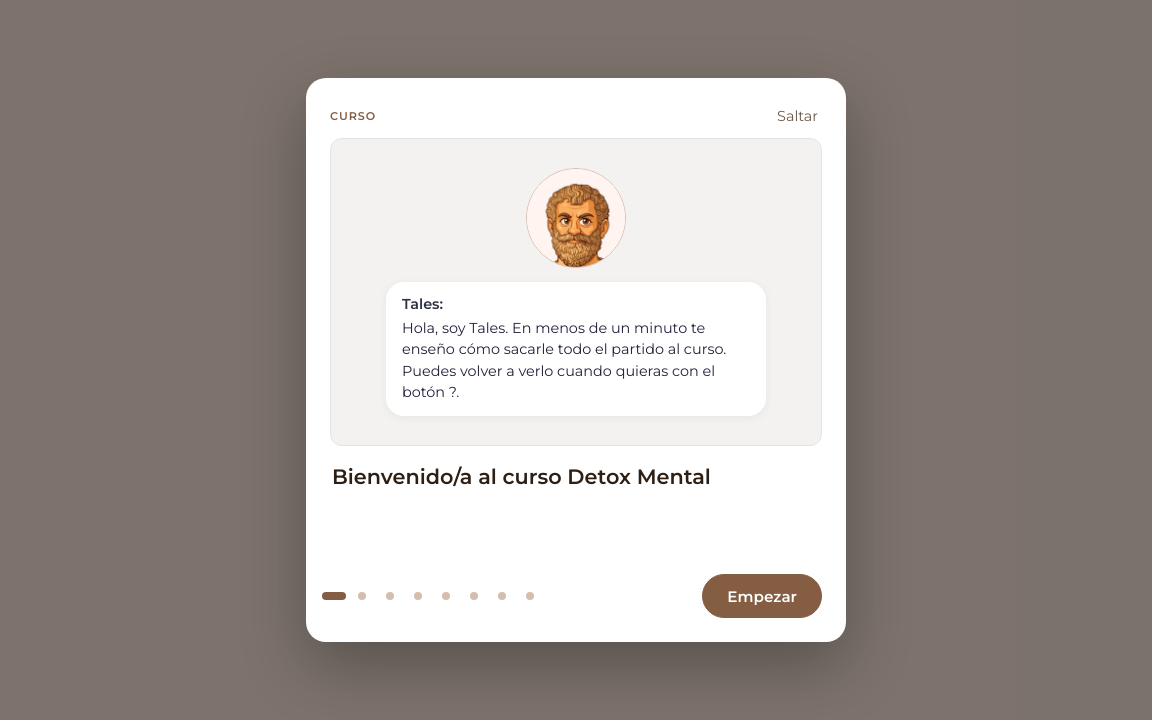
CourseOnboarding › the secret-character slide shows an illustration instead of a video
This screenshot has width=1152, height=720.
What coordinates should you click on to do the following:
click the button named "Ir a la diapositiva 6"
I would click on:
 (502, 596)
Its box is left=488, top=580, right=516, bottom=612.
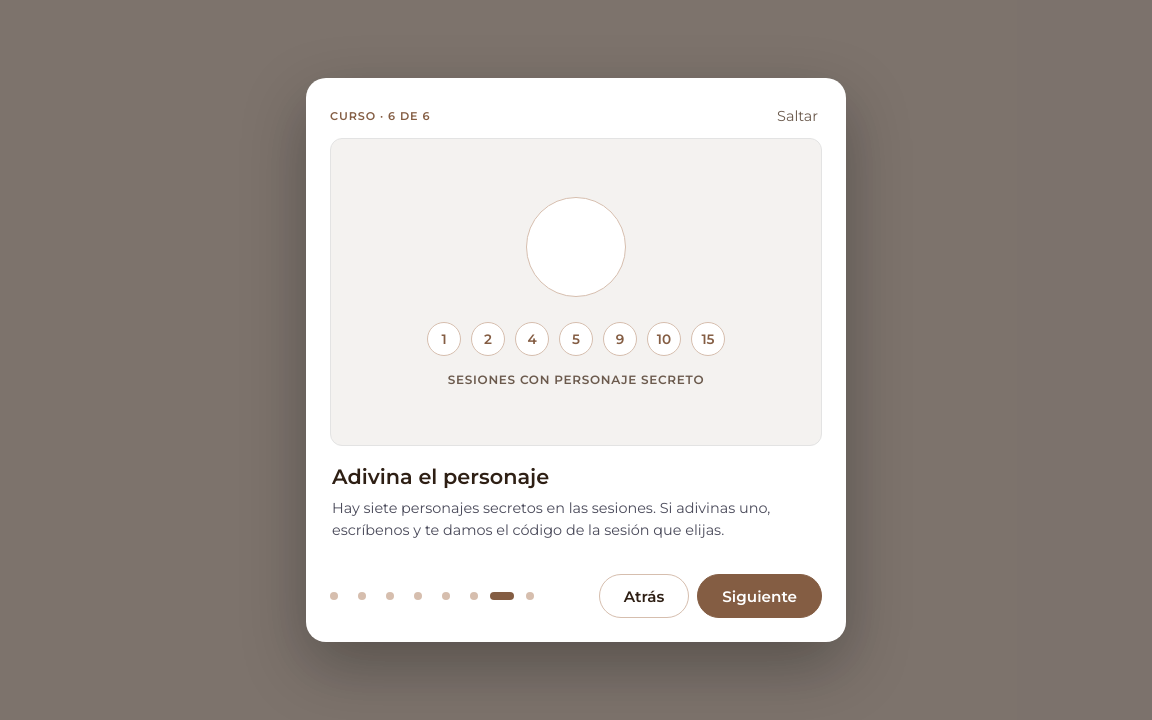
Now the picture named "personajes secretos" is shown, box left=427, top=197, right=725, bottom=387
